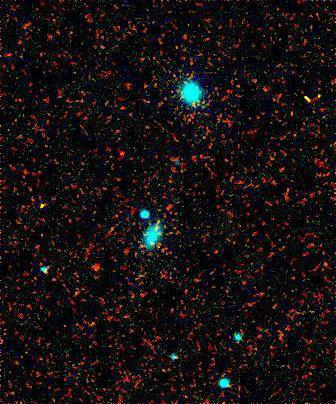star: (24, 193, 54, 223)
